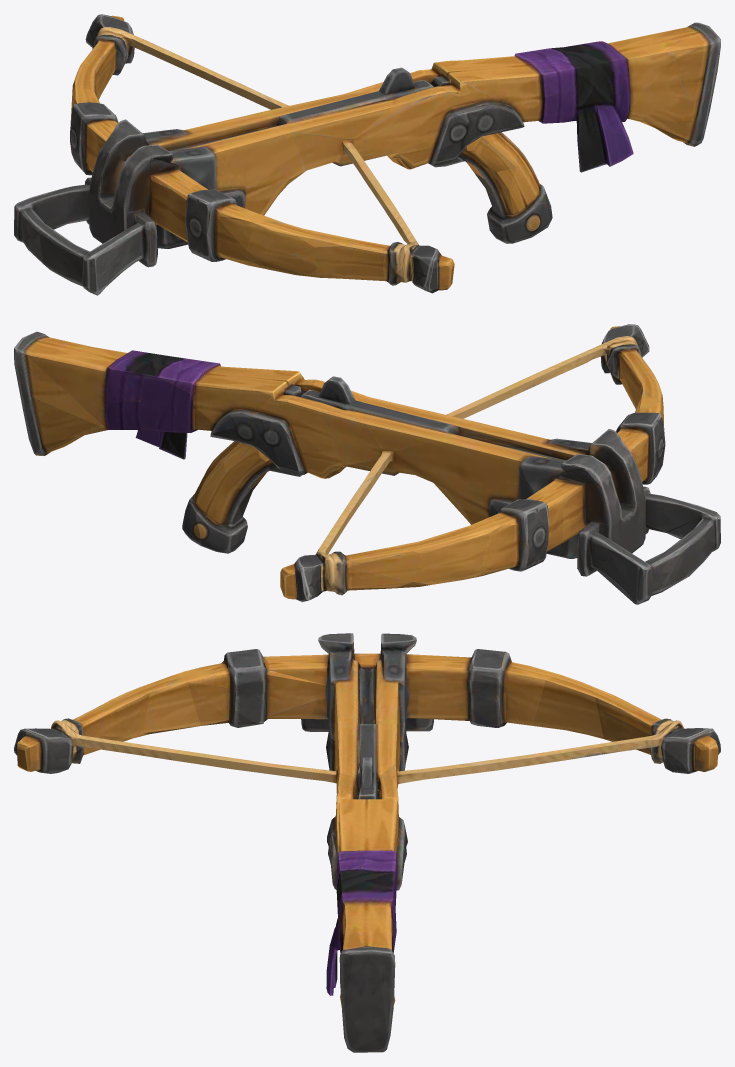
File: crossbow.glb
The picture shows the model from 3 angles, top to bottom: view 1: azimuth 30°, elevation 25°; view 2: azimuth 150°, elevation 25°; view 3: azimuth 270°, elevation 25°; orthographic projection. The views are drawn at different scales.
Parts seen in each view (by area): view 1: output_unwrapped; view 2: output_unwrapped; view 3: output_unwrapped.
Boxes of the visible parts, x1,y1,x2,y2 form: output_unwrapped: (14, 14, 720, 295); output_unwrapped: (14, 324, 720, 604); output_unwrapped: (14, 633, 720, 1052).
Size of the model in its own units: 1.9 by 0.5343 by 1.69.
1 material, 1 textured.
